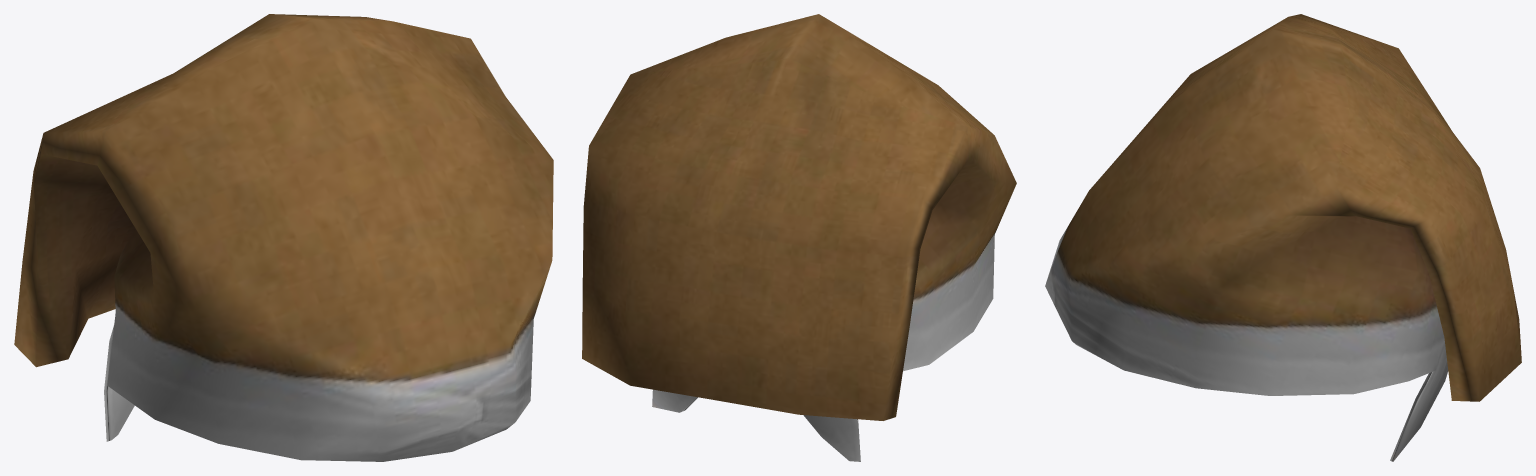
The model's file is rider-helmet-slice-mediumstablesoldiers.glb.
The picture shows the model from 3 angles, left to right: view 1: azimuth 30°, elevation 25°; view 2: azimuth 150°, elevation 25°; view 3: azimuth 270°, elevation 25°; orthographic projection. The views are drawn at different scales.
Size of the model in its own units: 0.2459 by 0.2636 by 0.3004.
1 material, 1 textured.
